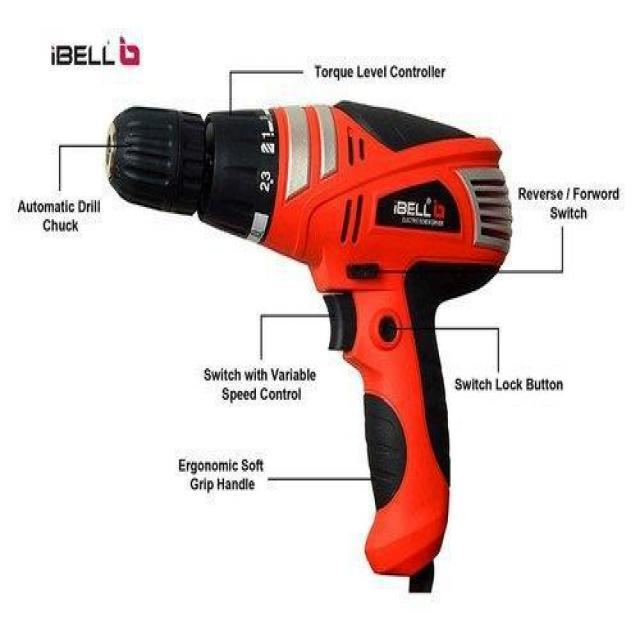drill: (104, 100, 514, 593)
